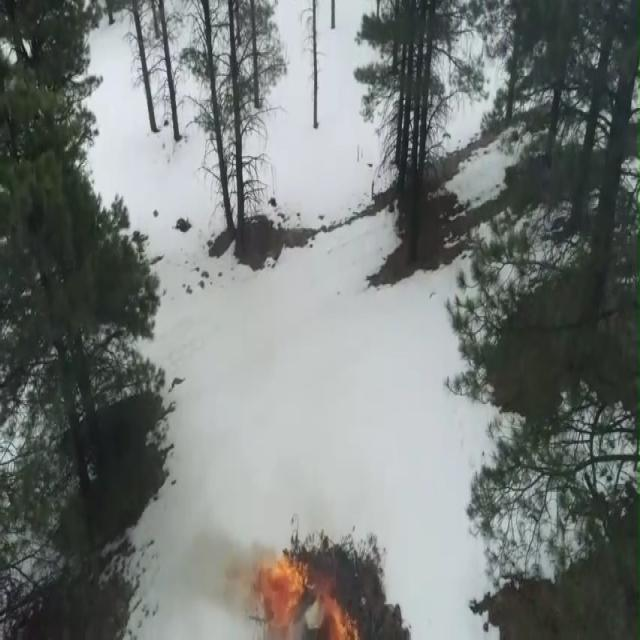Fire: (258, 563, 304, 623), (323, 593, 350, 640)
Smoke: (188, 534, 250, 608)
